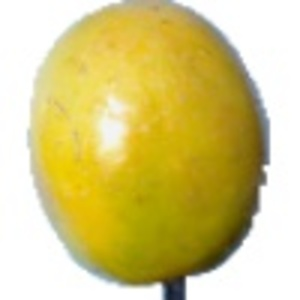maracujá: (28, 1, 271, 300)
